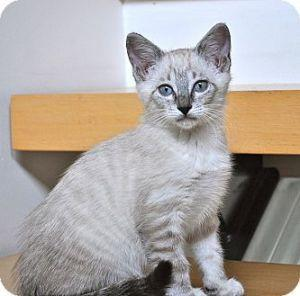siamese: (122, 21, 240, 138)
